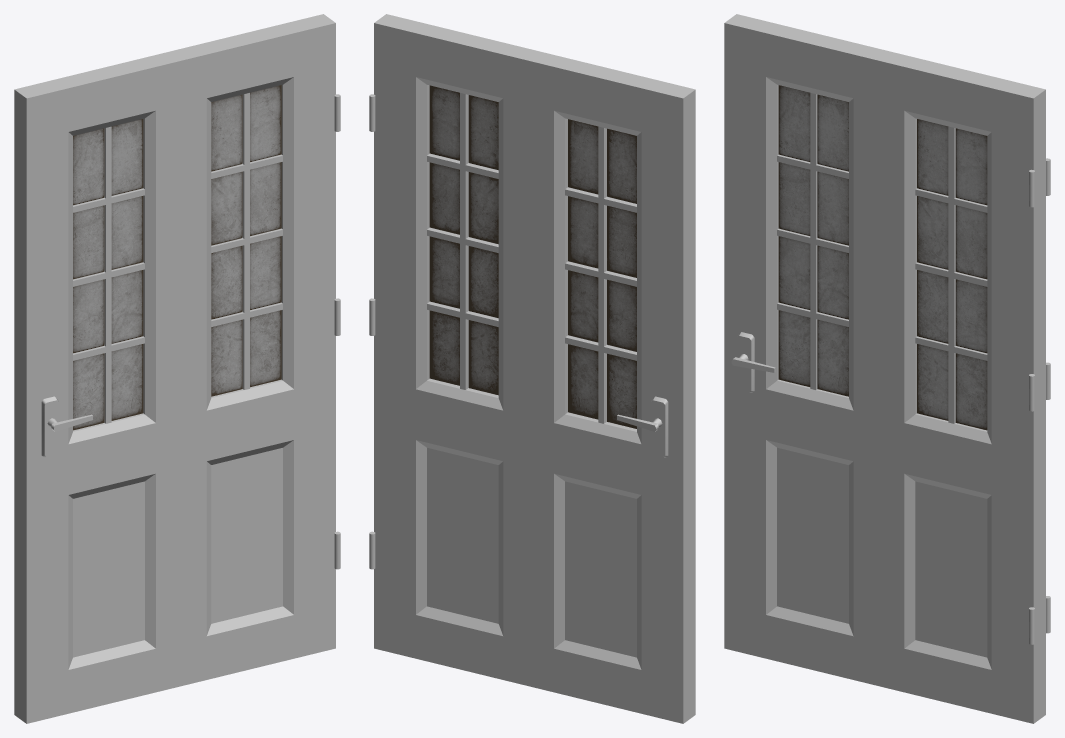
The model's file is Door_19_B.fbx.
The picture shows the model from 3 angles, left to right: view 1: azimuth 30°, elevation 25°; view 2: azimuth 150°, elevation 25°; view 3: azimuth 330°, elevation 25°; orthographic projection.
Parts seen in each view (by area): view 1: Door_2; view 2: Door_2; view 3: Door_2.
Boxes of the visible parts, x1,y1,x2,y2 form: Door_2: [14, 14, 340, 723]; Door_2: [369, 14, 695, 723]; Door_2: [724, 14, 1050, 723].
Bounding box in the file's own units: 112 × 214 × 20.07.
